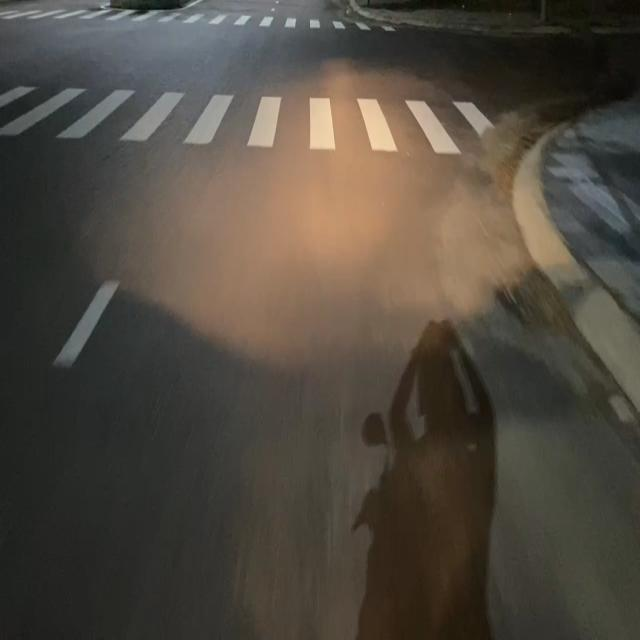walk-crossing: (0, 79, 495, 152)
